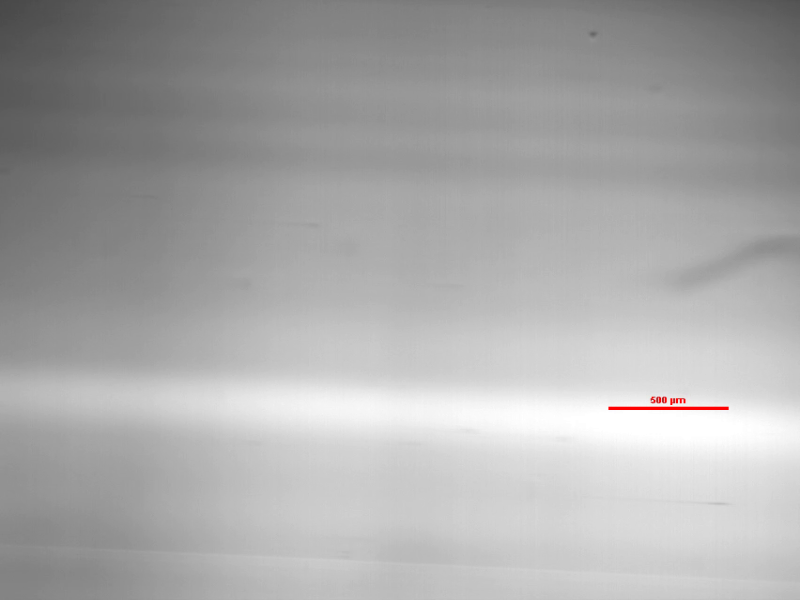fiber: (656, 224, 800, 296), (592, 491, 737, 515)
size: (609, 394, 729, 420)
